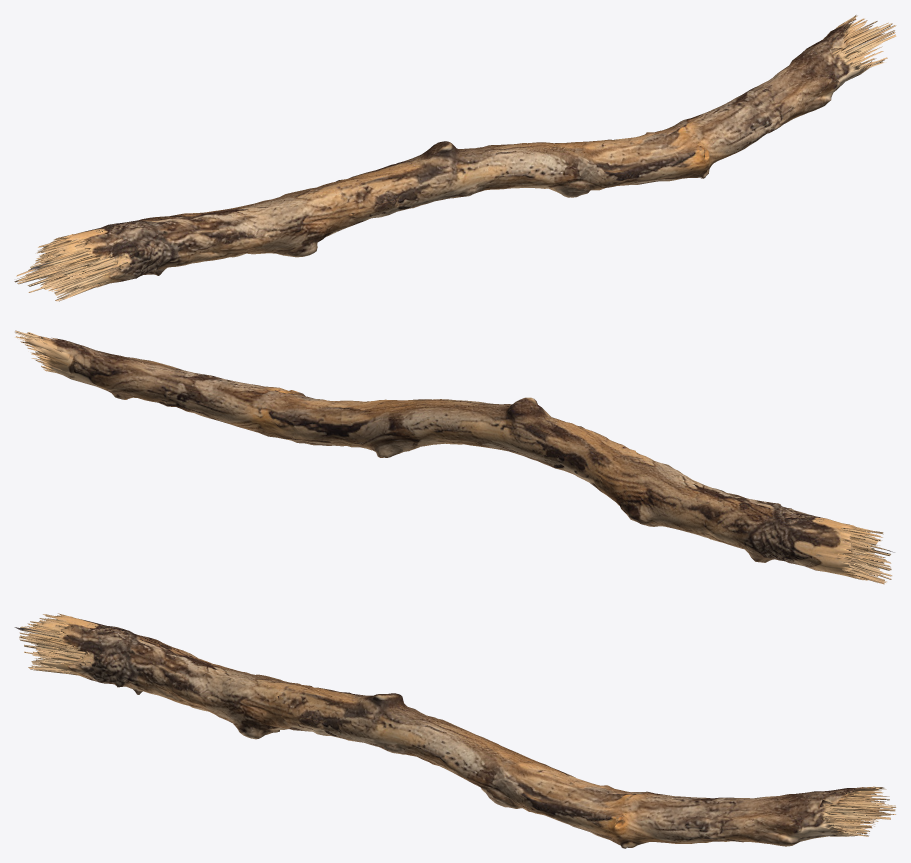
Rendered from park_stick_optimized.glb.
The picture shows the model from 3 angles, top to bottom: view 1: azimuth 30°, elevation 25°; view 2: azimuth 150°, elevation 25°; view 3: azimuth 330°, elevation 25°; orthographic projection.
Size of the model in its own units: 0.9492 by 0.0957 by 0.1152.
1 material, 1 textured.
